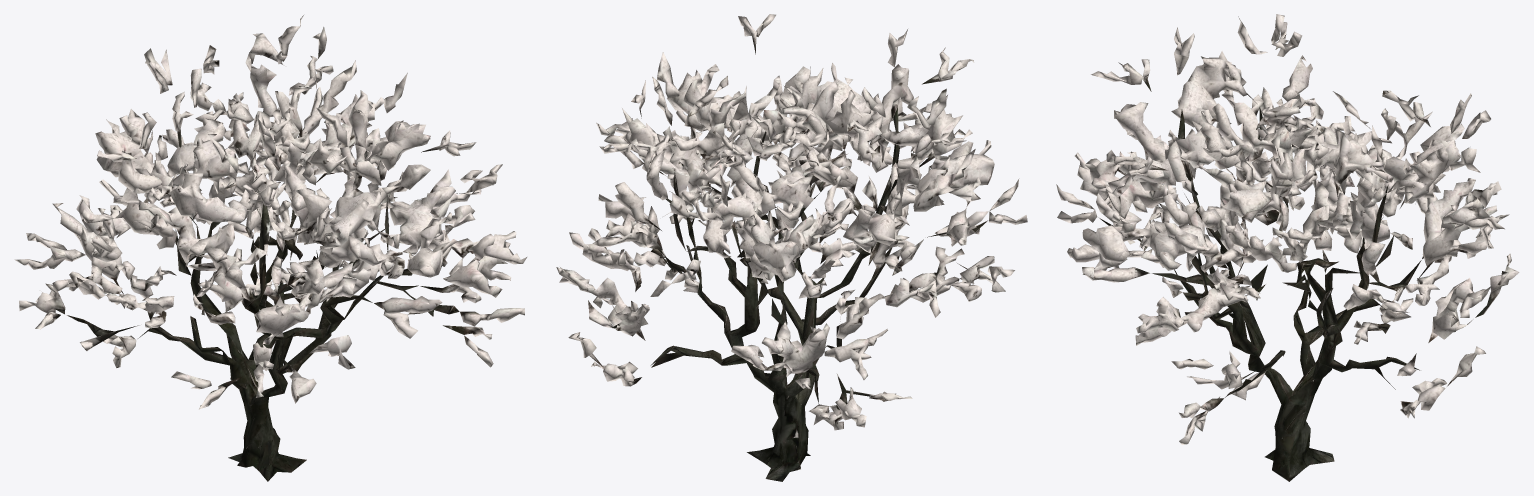
File: tree_cherry_white.glb
3 views of the same model, side by side, from view 1: azimuth 30°, elevation 25°; view 2: azimuth 150°, elevation 25°; view 3: azimuth 270°, elevation 25° (orthographic).
Parts seen in each view (by area): view 1: Mesh_0; view 2: Mesh_0; view 3: Mesh_0.
Part boxes in pixels (x1,y1,x2,y2): Mesh_0: (14, 15, 526, 481); Mesh_0: (556, 14, 1027, 481); Mesh_0: (1056, 14, 1519, 481).
Bounding box in the file's own units: 1.84 × 1.71 × 1.78.
1 material, 1 textured.
